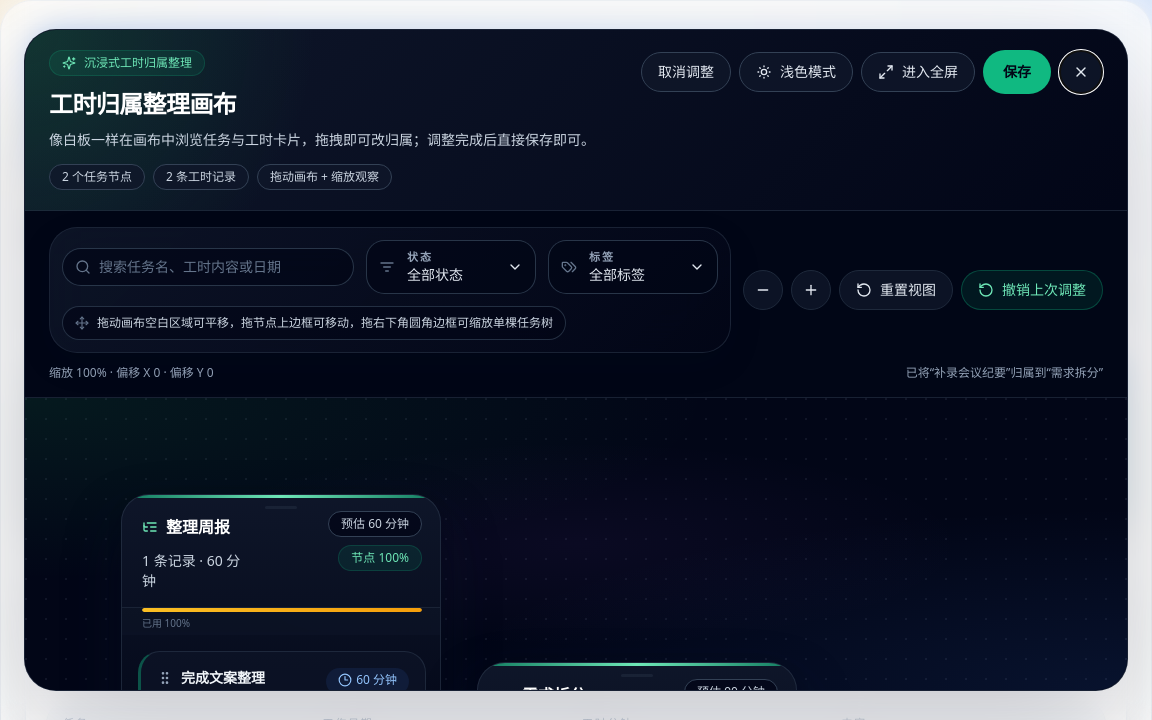
Scenario: ToolWorkspace › 保存失败时会以 alert 形式展示后端返回的详细错误
The image size is (1152, 720).
Earlier steps of the test are not shown.
Click the button "保存": click(1017, 72) [983,50,1051,94]
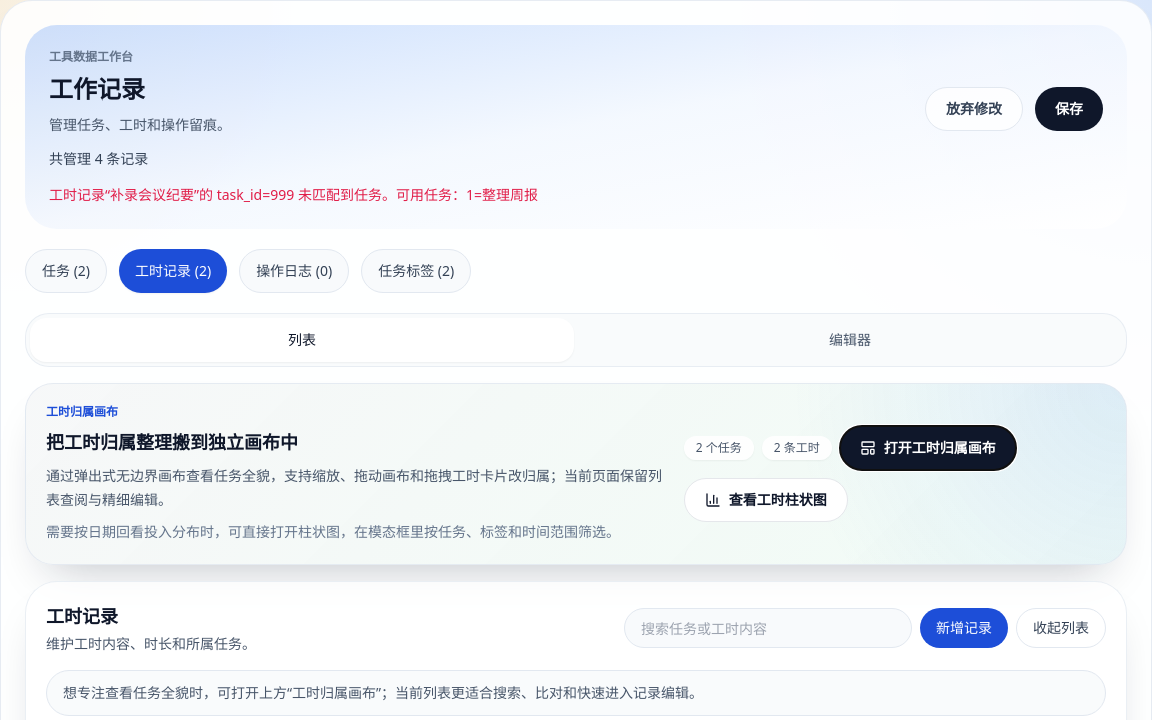
Expected: the message reads "工时记录“补录会议纪要”的 task_id=999 未匹配到任务。可用任务：1=整理周报", [49,185,538,204]
